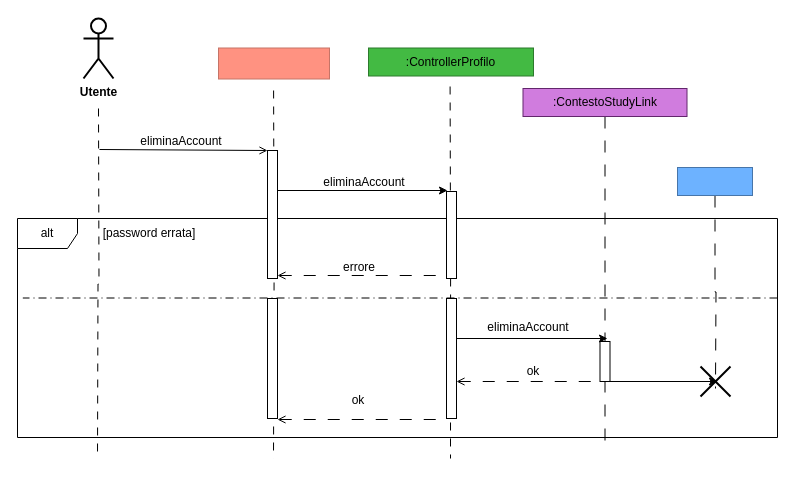
Image size: 796x477. Some labels were removed from this diagram. The shapes that lost their labels are listed below. From the top down, each one's centre as x and y in pixels, then its label:
point (274, 63): :ViewModificaProfilo
point (714, 181): :Utente
